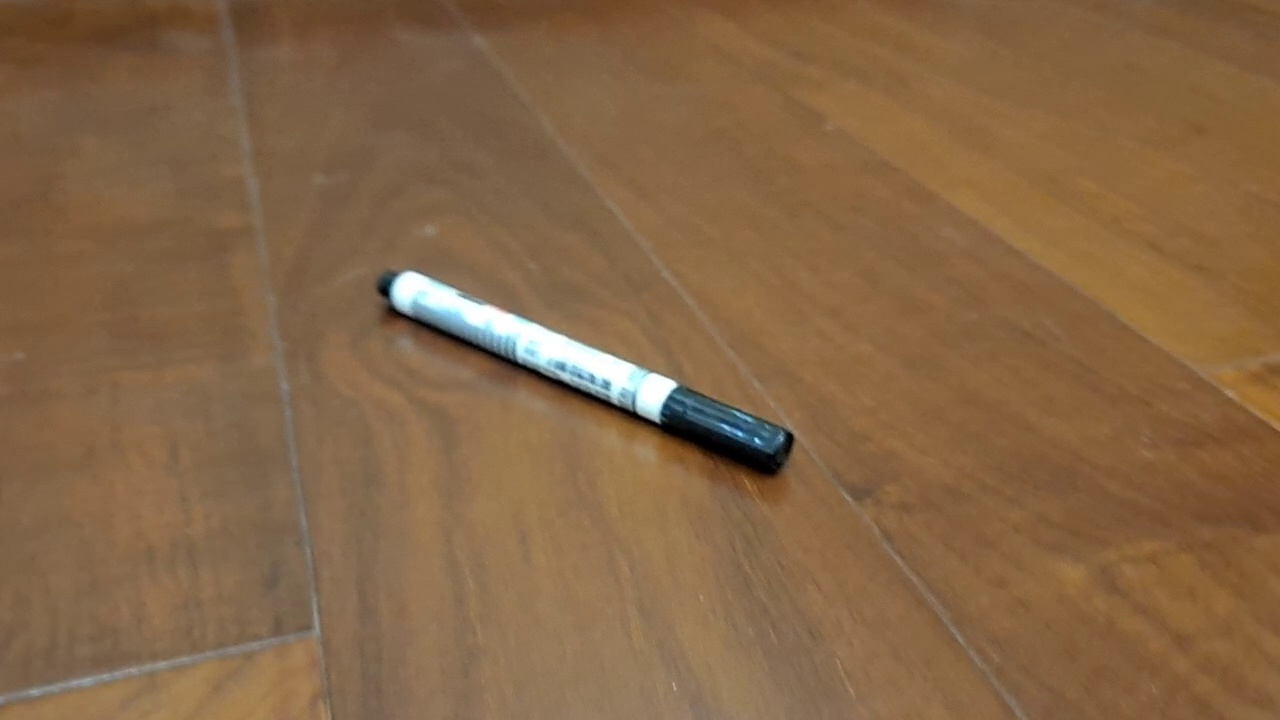pen: (375, 267, 795, 477)
